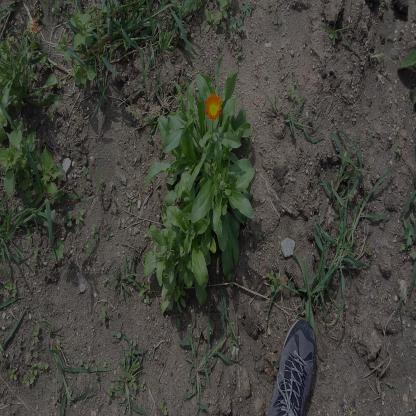marigold: (205, 93, 222, 119)
